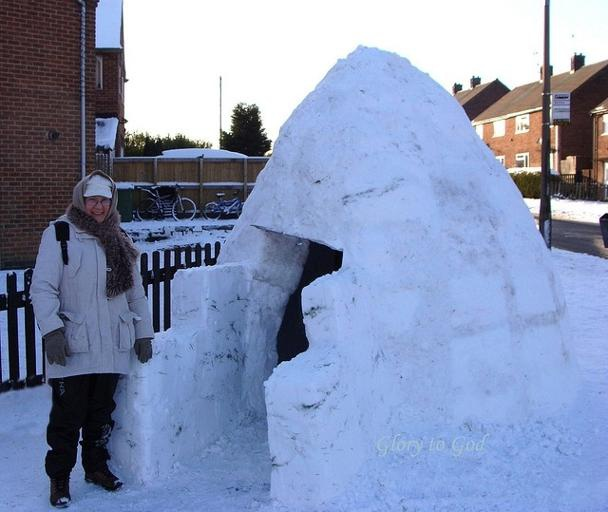non-vehicle: (134, 182, 197, 222), (200, 187, 245, 220)
